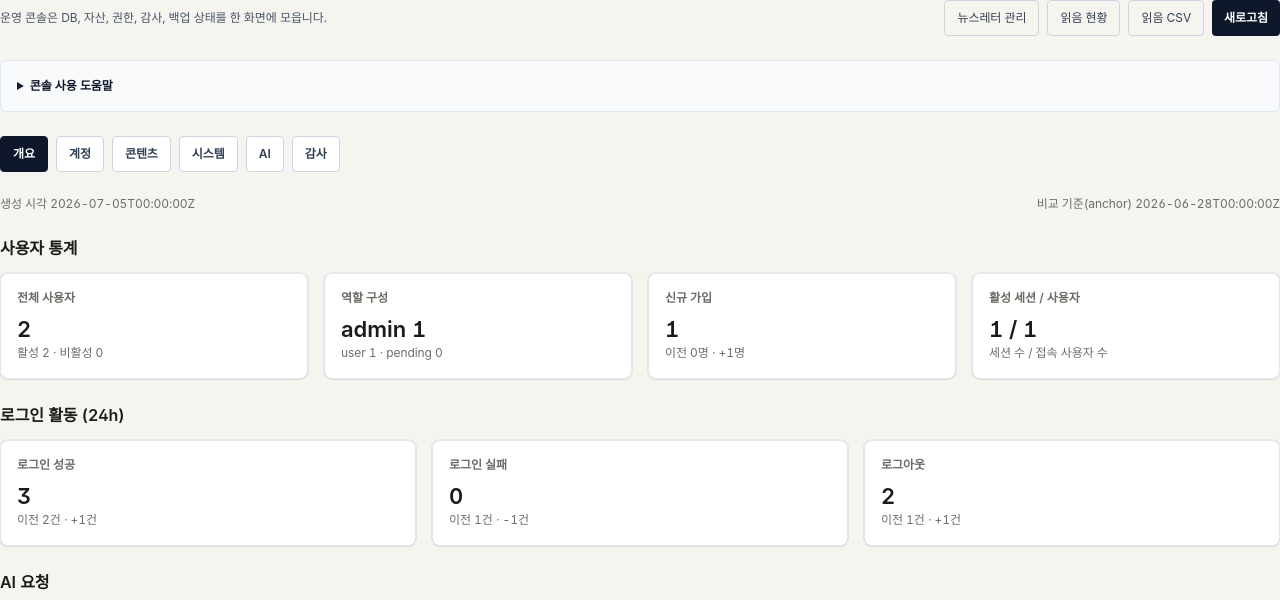
Scenario: module custom section path is explicit and validates non-empty custom input
The width and height of the screenshot is (1280, 600).
Click the tab "콘텐츠" at coordinates (141, 154), box [112, 136, 171, 172]
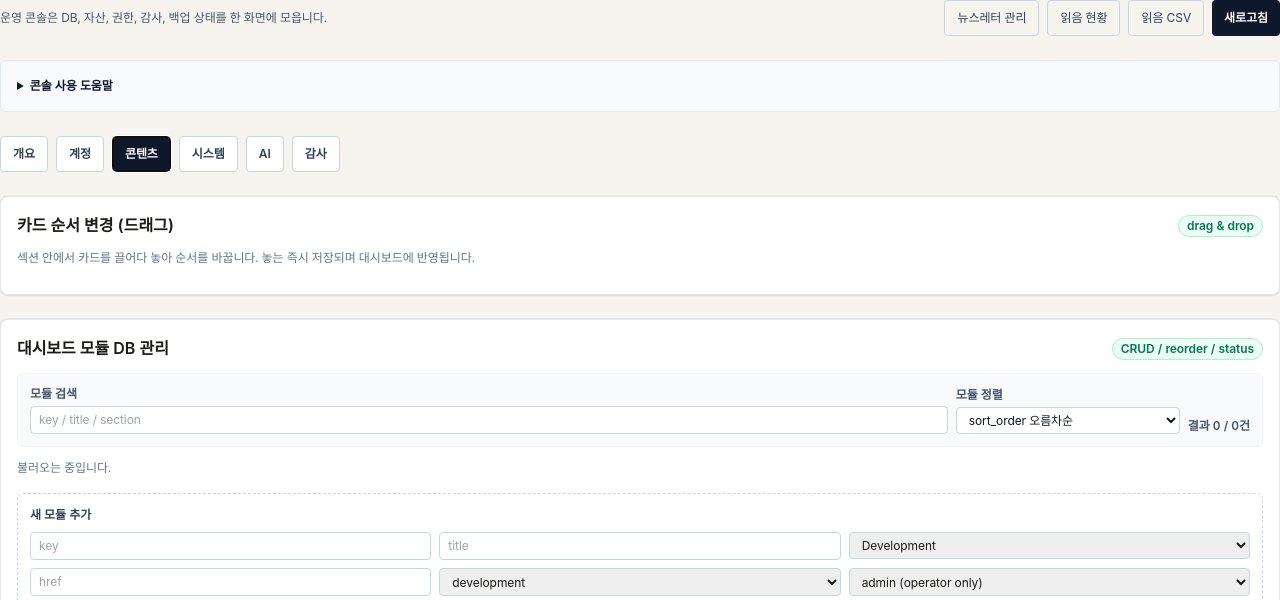
Now the heading "대시보드 모듈 DB 관리" is shown, box [17, 336, 169, 361]
Select "커스텀…" in the dropdown named "new module section" at coordinates (1049, 546), box [849, 532, 1250, 559]
(page scrolled)
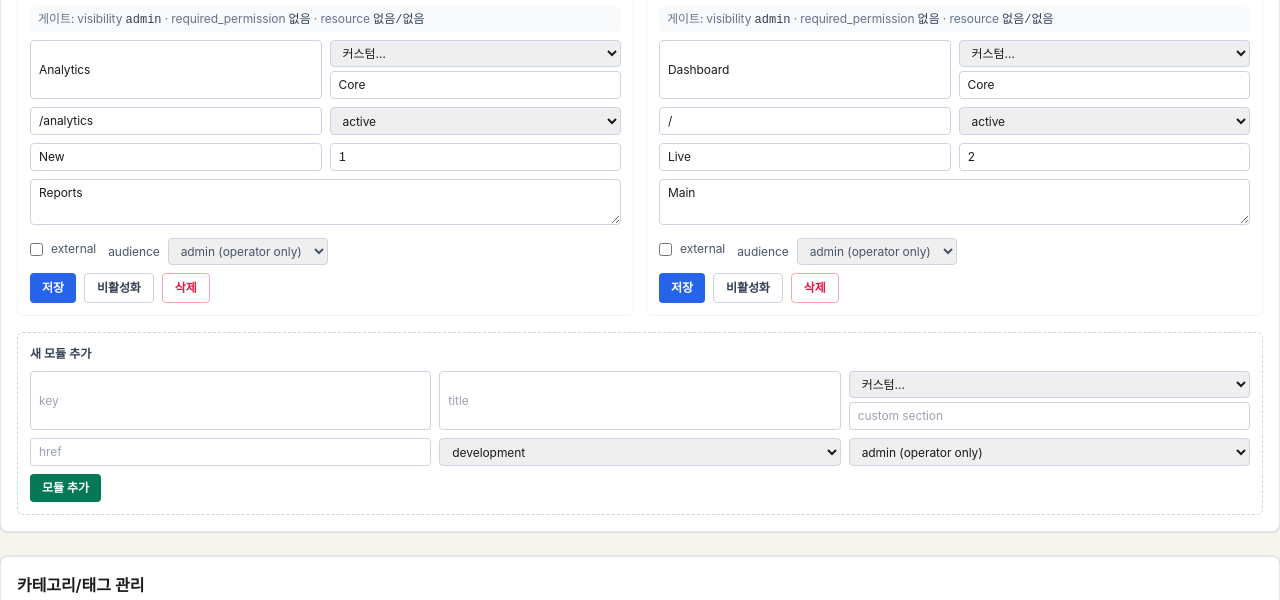
Now the field named "new module section custom" is shown, box [849, 402, 1250, 430]
Type "custom-module" into the field named "new module key" at coordinates (231, 400), box [30, 371, 431, 430]
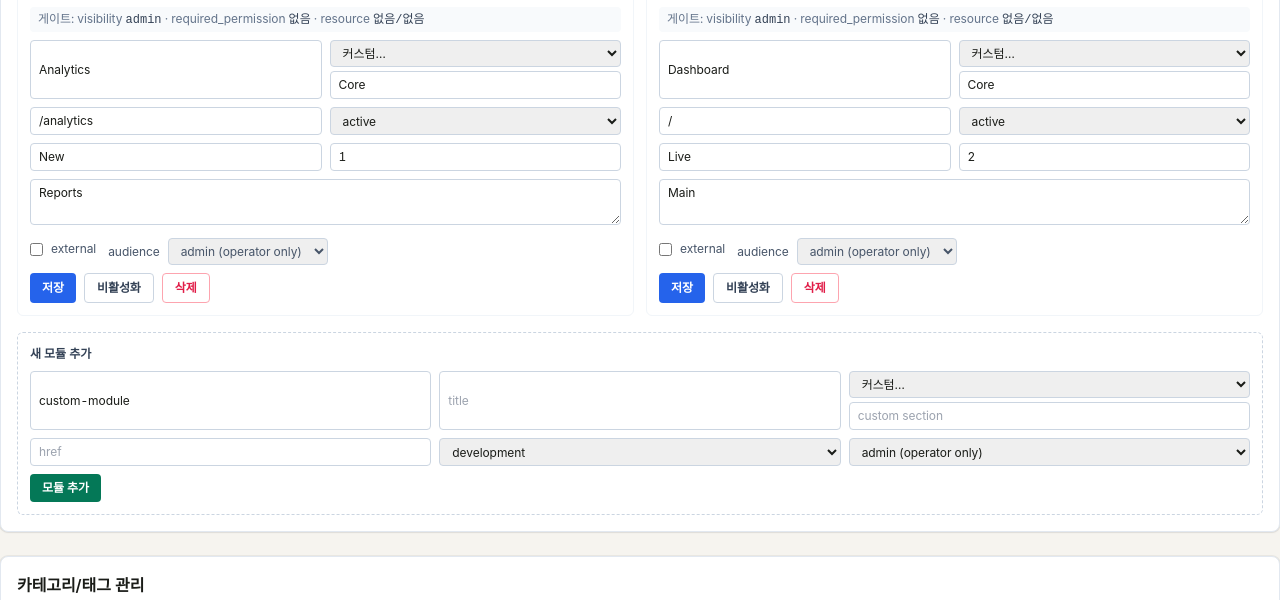
Type "Custom Module" into the field named "new module title" at coordinates (640, 400), box [439, 371, 841, 430]
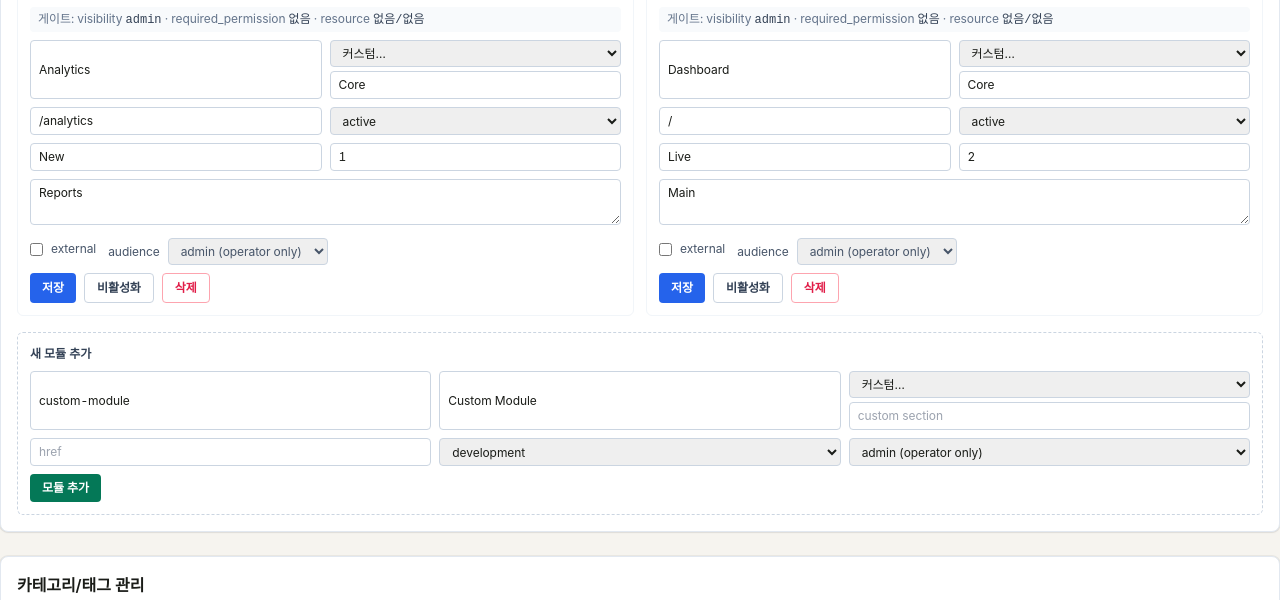
Type "/custom" into the field named "new module href" at coordinates (231, 452), box [30, 438, 431, 466]
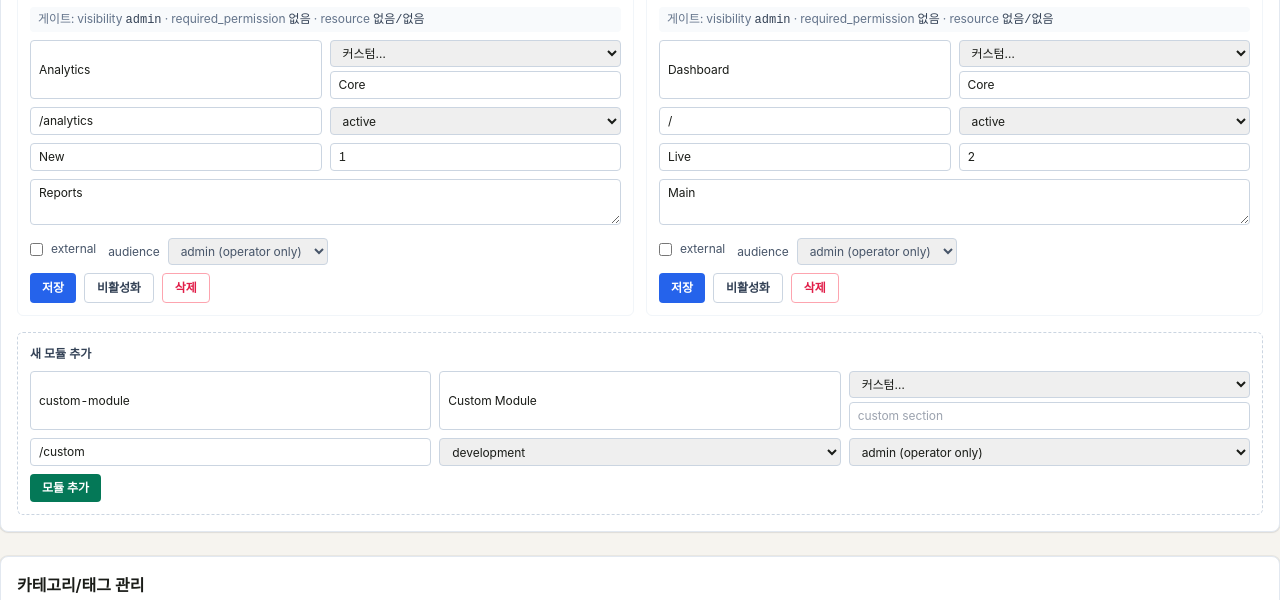
Click the button "모듈 추가" at coordinates (66, 488), box [30, 474, 101, 502]
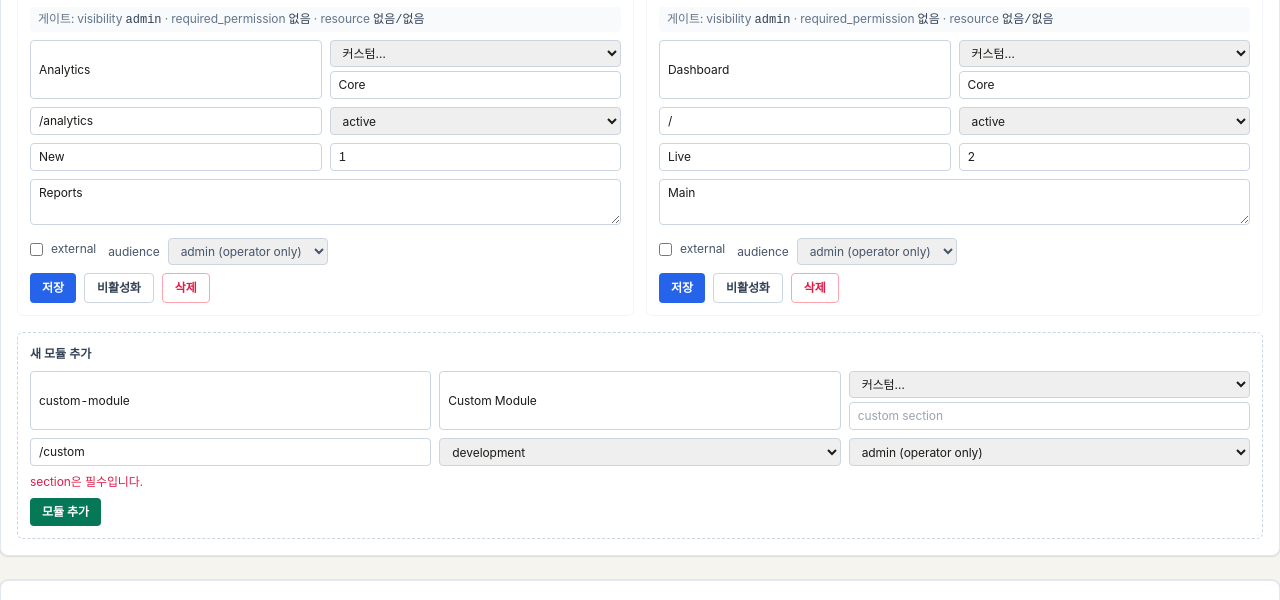
Now the list item "section은 필수입니다." is shown, box [30, 474, 143, 489]
